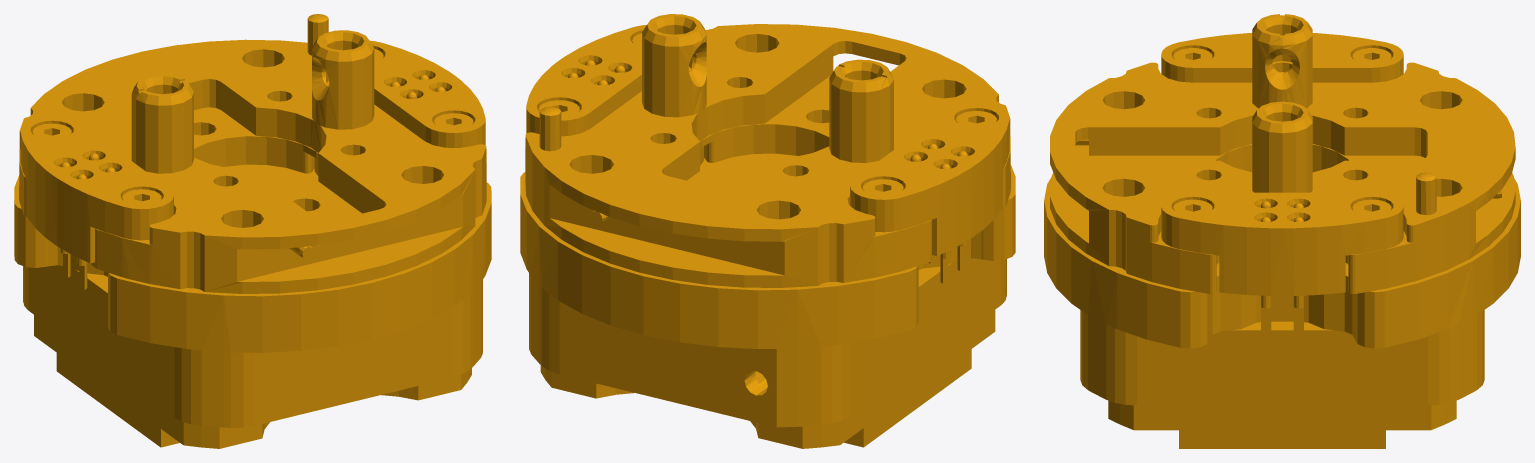
File: Array_Gripper_1.dae
The picture shows the model from 3 angles, left to right: view 1: azimuth 30°, elevation 25°; view 2: azimuth 150°, elevation 25°; view 3: azimuth 270°, elevation 25°; orthographic projection. The views are drawn at different scales.
Visible parts, largest first — view 1: base_link; view 2: base_link; view 3: base_link.
Boxes of the visible parts, x1,y1,x2,y2 form: base_link: (14, 14, 491, 448); base_link: (520, 14, 1015, 448); base_link: (1044, 14, 1520, 448).
Bounding box in the file's own units: 4.48 × 4.6 × 3.3.
